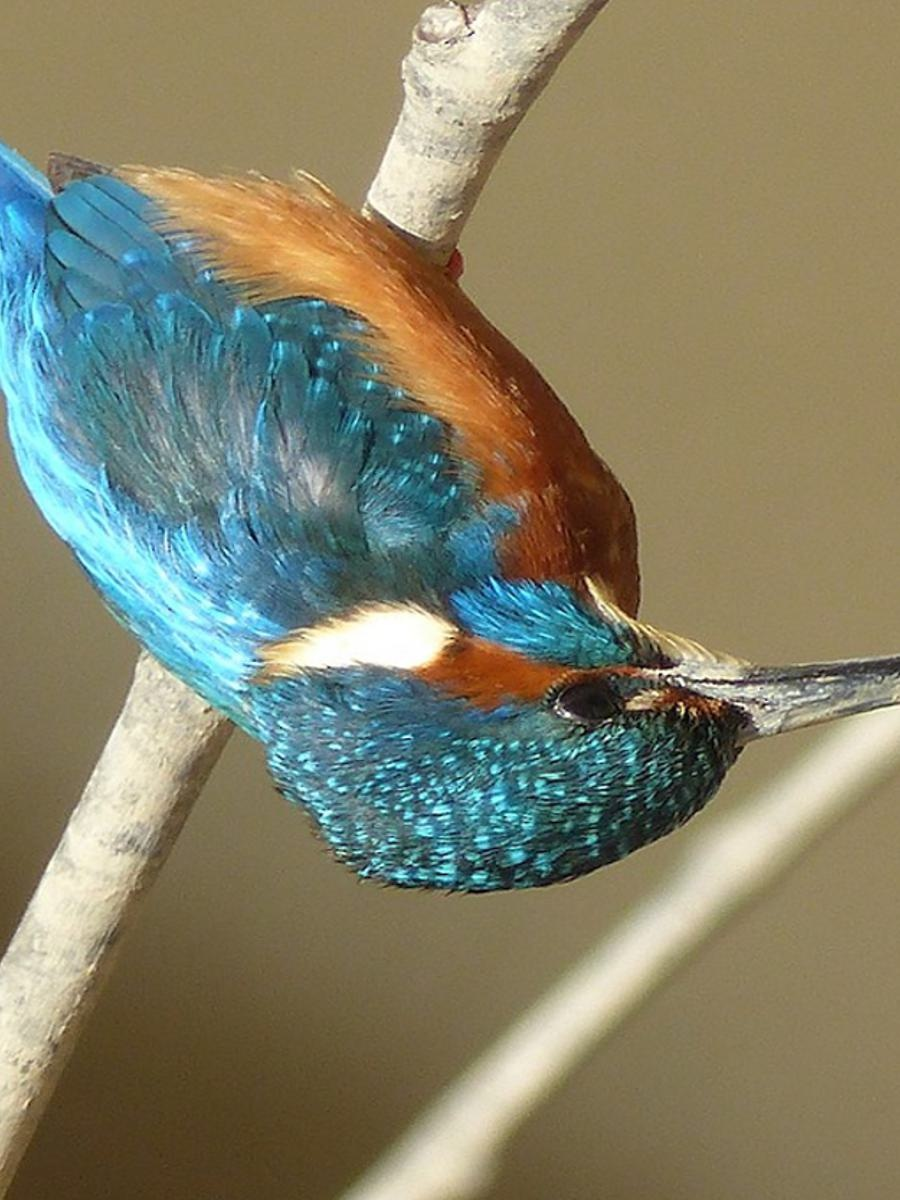kingfisher: (1, 130, 894, 876)
